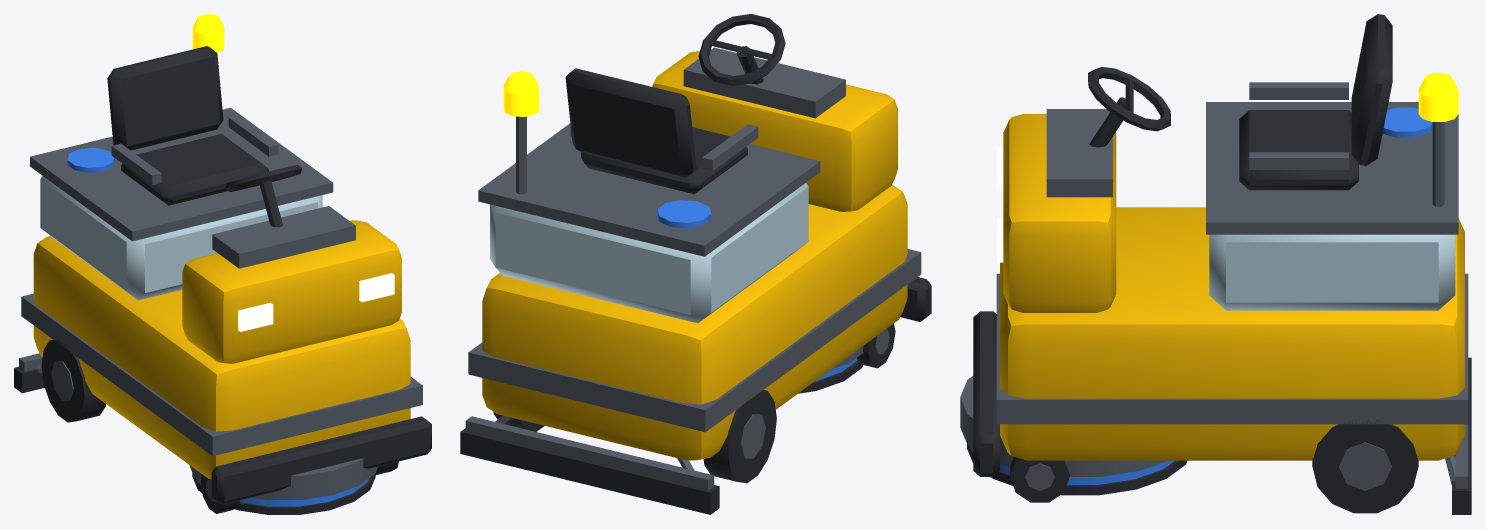
Rendered from floor_scrubber.glb.
3 views of the same model, side by side, from view 1: azimuth 30°, elevation 25°; view 2: azimuth 150°, elevation 25°; view 3: azimuth 270°, elevation 25° (orthographic). The views are drawn at different scales.
Parts seen in each view (by area): view 1: body, brush; view 2: body, brush; view 3: body, brush.
Boxes of the visible parts, x1=… form: body: x1=14, y1=14, x2=431, y2=513; brush: x1=192, y1=473, x2=375, y2=514; body: x1=460, y1=14, x2=931, y2=514; brush: x1=798, y1=358, x2=863, y2=393; body: x1=960, y1=14, x2=1471, y2=514; brush: x1=967, y1=444, x2=1187, y2=495.
Bounding box in the file's own units: 95 × 139 × 154.
